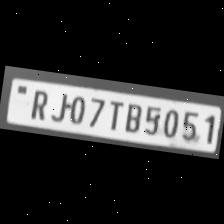0: (158, 103, 182, 137), (66, 91, 88, 125)
1: (198, 110, 220, 144)
5: (178, 106, 202, 142), (140, 101, 163, 135)
7: (84, 94, 106, 128)
B: (119, 99, 144, 133)
J: (50, 88, 72, 122)
R: (25, 85, 52, 120)
T: (102, 96, 124, 130)
